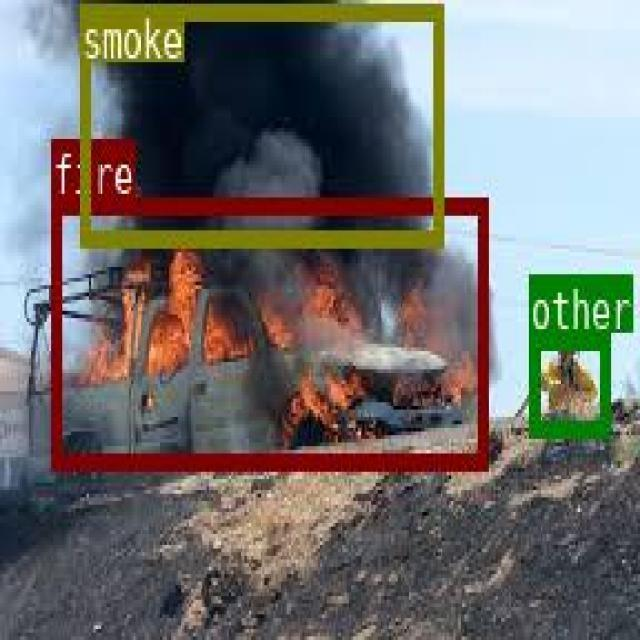fire: (50, 196, 485, 466)
smoke: (80, 2, 440, 242)
